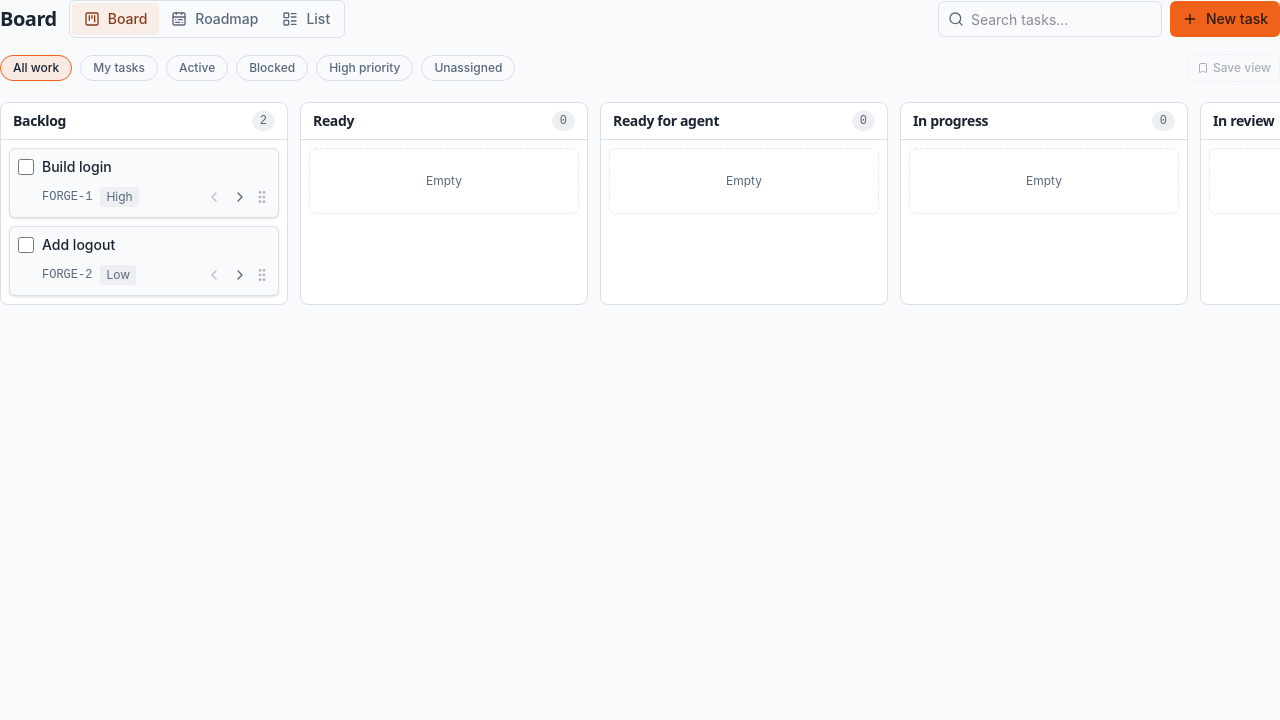
Test: BoardDepth › exposes deep palette commands scoped to the selection
Expected: the element with test id "card-t1" is shown, x1=9 y1=148 x2=279 y2=218
Click the checkbox named "Select Build login": (26, 167) x1=18 y1=159 x2=34 y2=175
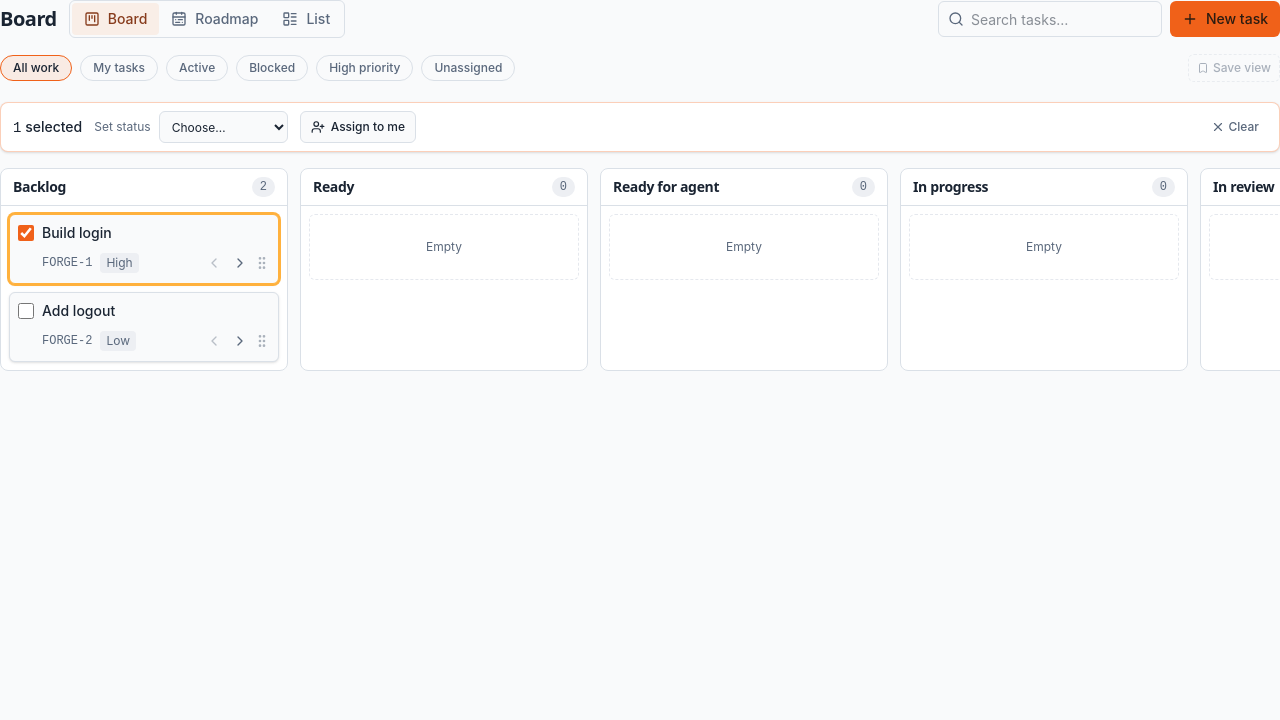
Press k
(page scrolled)
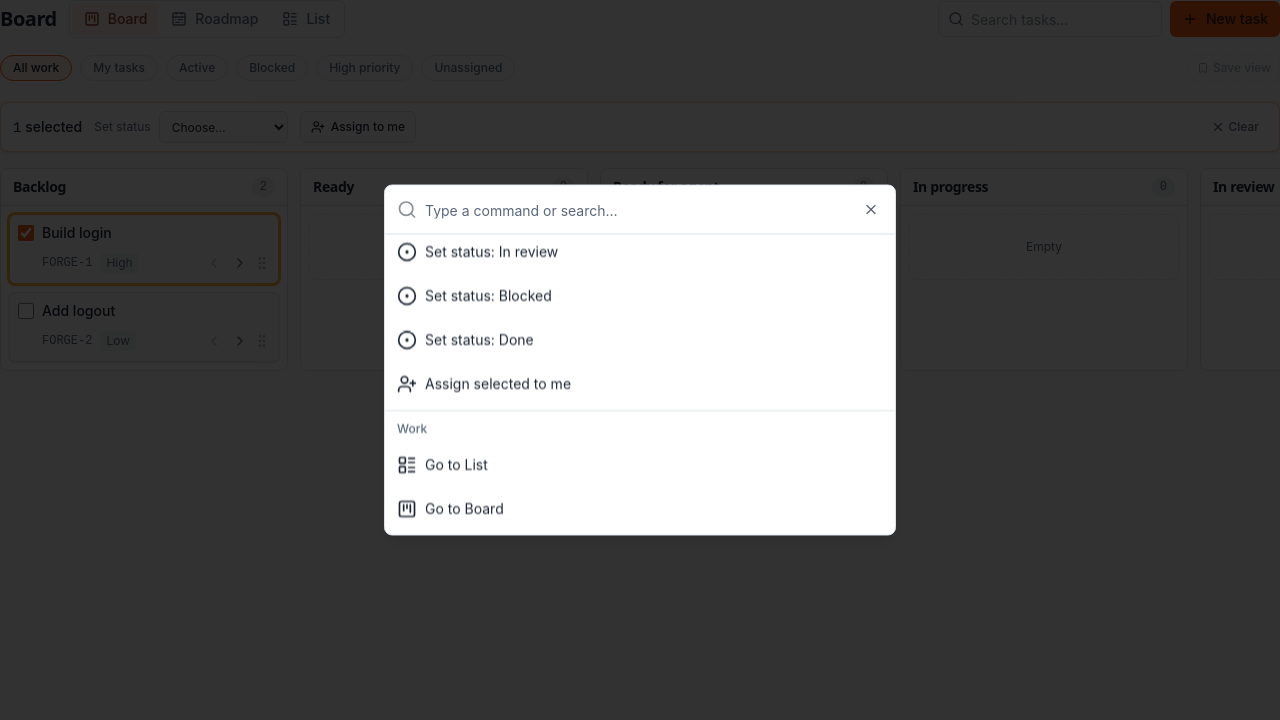
Expected: the text "Set status: Done" is shown, x1=425 y1=330 x2=534 y2=350
Expected: the text "Assign selected to me" is shown, x1=425 y1=374 x2=571 y2=394
